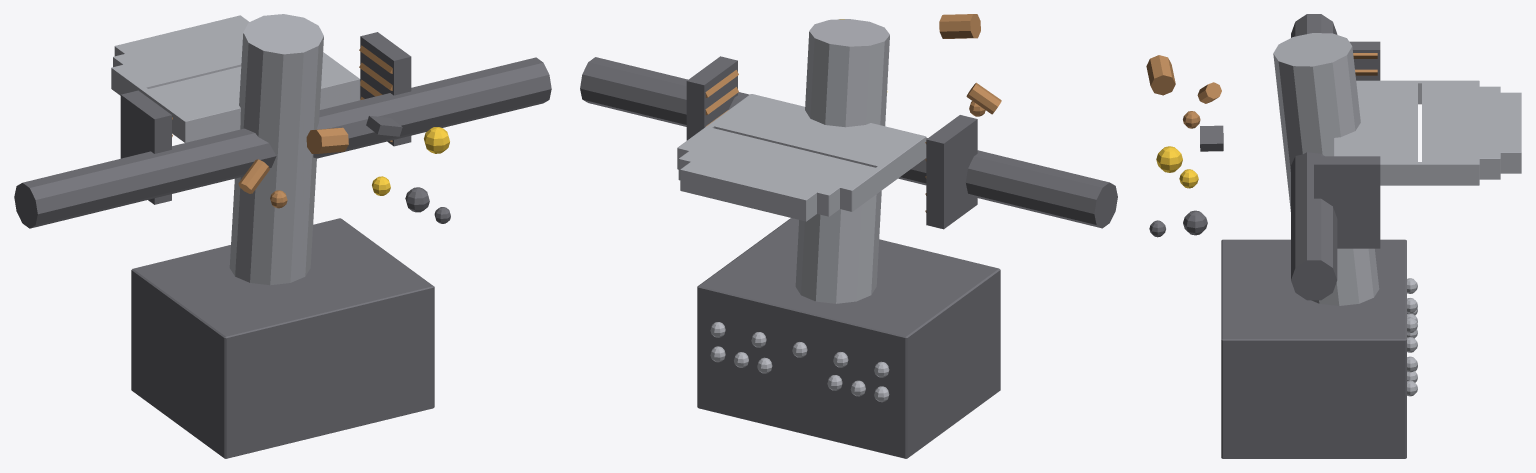
File: torso-bruiser2.glb
3 views of the same model, side by side, from view 1: azimuth 30°, elevation 25°; view 2: azimuth 150°, elevation 25°; view 3: azimuth 270°, elevation 25° (orthographic).
Parts seen in each view (by area): view 1: pelvis, yoke, spine, plate0, plate1, ventwell.001, ventwell, plate2, grc4, grc7, grs2, grb6; view 2: pelvis, spine, plate0, yoke, plate2, ventwell.001, ventwell, plate1, grc4, grc7; view 3: pelvis, plate0, spine, yoke, ventwell, plate1, plate2, grc4, ventwell.001, grb6, grs2, grs3.
Part boxes in pixels (<box>): pelvis: <box>131,218,434,458</box>; yoke: <box>14,57,551,228</box>; spine: <box>229,14,323,285</box>; plate0: <box>111,36,360,142</box>; plate1: <box>113,24,325,101</box>; ventwell.001: <box>120,90,171,204</box>; ventwell: <box>360,32,411,146</box>; plate2: <box>114,15,249,84</box>; grc4: <box>306,127,348,153</box>; grc7: <box>238,159,269,193</box>; grs2: <box>424,127,449,153</box>; grb6: <box>366,115,402,136</box>; pelvis: <box>697,218,1000,458</box>; spine: <box>795,19,889,303</box>; plate0: <box>677,94,926,211</box>; yoke: <box>580,57,1117,228</box>; plate2: <box>680,131,858,221</box>; ventwell.001: <box>926,115,977,229</box>; ventwell: <box>686,56,737,140</box>; plate1: <box>678,126,865,216</box>; grc4: <box>939,14,980,38</box>; grc7: <box>966,82,1001,114</box>; pelvis: <box>1221,239,1406,458</box>; plate0: <box>1334,80,1479,185</box>; spine: <box>1273,33,1379,305</box>; yoke: <box>1291,14,1337,300</box>; ventwell: <box>1314,156,1380,248</box>; plate1: <box>1376,86,1500,179</box>; plate2: <box>1417,92,1521,173</box>; grc4: <box>1146,55,1175,95</box>; ventwell.001: <box>1349,41,1380,80</box>; grb6: <box>1200,125,1223,151</box>; grs2: <box>1156,146,1182,172</box>; grs3: <box>1183,210,1207,235</box>.
Size of the model in its own units: 0.88 by 0.6049 by 0.5664.
